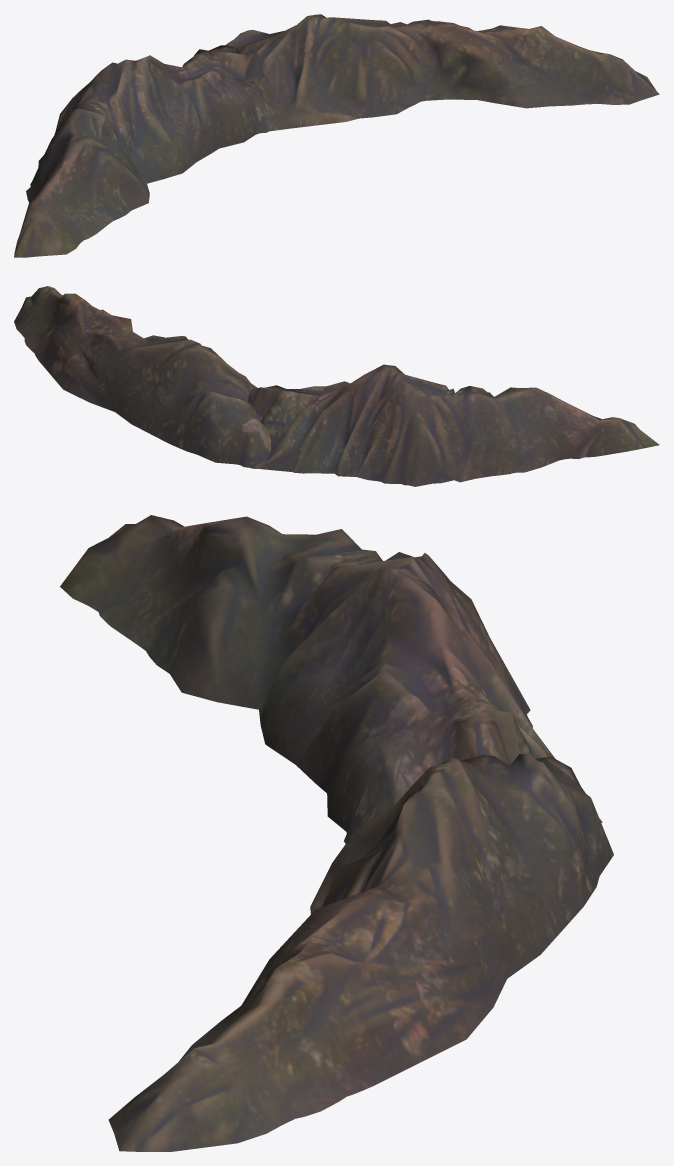
File: Re_Invent_track_landmark_07.dae
3 views of the same model, one above another, from view 1: azimuth 30°, elevation 25°; view 2: azimuth 150°, elevation 25°; view 3: azimuth 270°, elevation 25° (orthographic). The views are drawn at different scales.
Parts seen in each view (by area): view 1: Re_Invent_track_landmark_07; view 2: Re_Invent_track_landmark_07; view 3: Re_Invent_track_landmark_07.
Part boxes in pixels (x1,y1,x2,y2): Re_Invent_track_landmark_07: (14,14,659,257); Re_Invent_track_landmark_07: (14,286,659,486); Re_Invent_track_landmark_07: (60,515,613,1151).
Bounding box in the file's own units: 178 × 69.08 × 23.82.
Materials: 1 (1 with a texture image).
